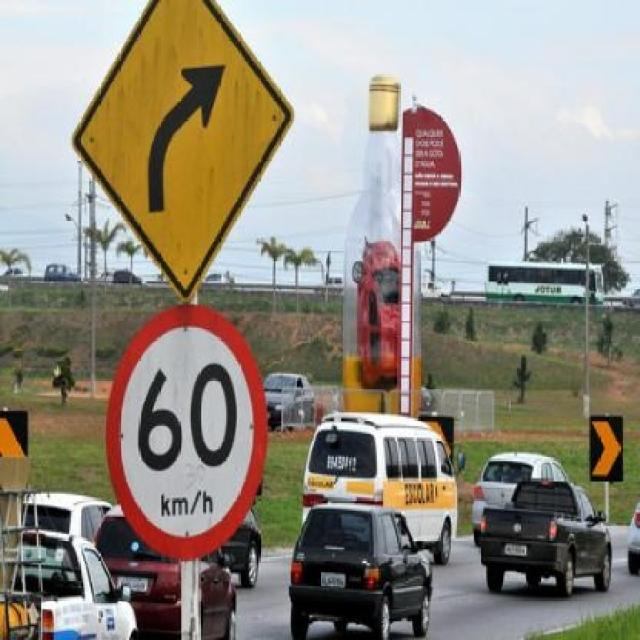forb_speed_over_60: (106, 309, 268, 560)
